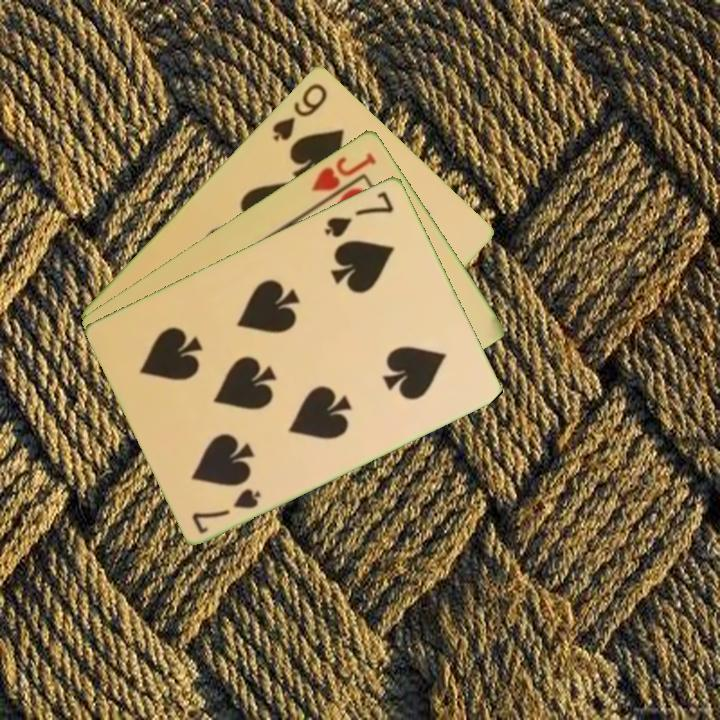7s: (320, 187, 397, 240), (188, 484, 264, 536)
9s: (269, 79, 330, 144)
Jh: (308, 148, 380, 194)
